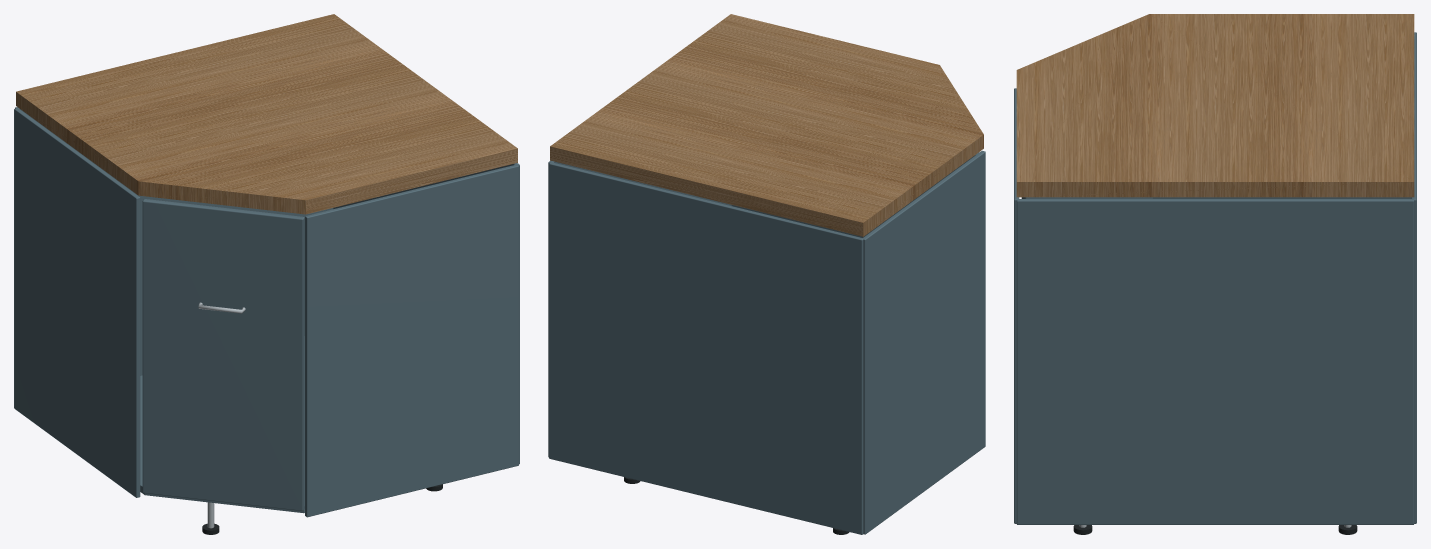
File: garage-corner-cabinet.glb
The picture shows the model from 3 angles, left to right: view 1: azimuth 30°, elevation 25°; view 2: azimuth 150°, elevation 25°; view 3: azimuth 270°, elevation 25°; orthographic projection. The views are drawn at different scales.
Parts seen in each view (by area): view 1: catalog_surface_RealismUV, catalog_surface_UVMap; view 2: catalog_surface_RealismUV, catalog_surface_UVMap; view 3: catalog_surface_RealismUV, catalog_surface_UVMap.
Boxes of the visible parts, left/top/right/bottom form: catalog_surface_RealismUV: left=14, top=107, right=519, bottom=534; catalog_surface_UVMap: left=16, top=14, right=517, bottom=214; catalog_surface_RealismUV: left=548, top=150, right=985, bottom=534; catalog_surface_UVMap: left=550, top=14, right=983, bottom=236; catalog_surface_RealismUV: left=1014, top=32, right=1416, bottom=534; catalog_surface_UVMap: left=1016, top=14, right=1414, bottom=197.
Bounding box in the file's own units: 0.9 × 0.93 × 0.9.
Materials: 4 (1 with a texture image).
